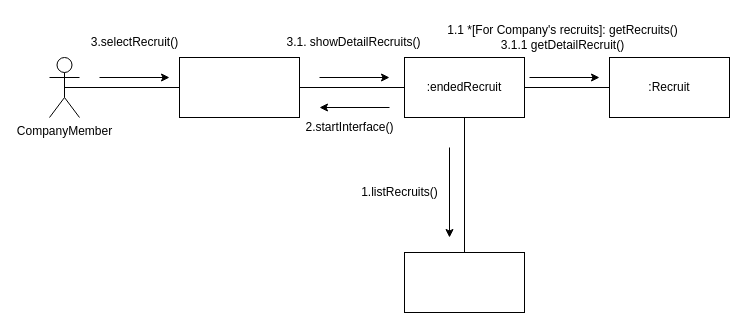
This 747x330 diagram has some shape labels left out. Here are the shapes that lost their labels. From the top down, the box of each, then its label:
(178, 56, 300, 118): :endedRecruit UI
(404, 252, 524, 312): :CompanyMember
